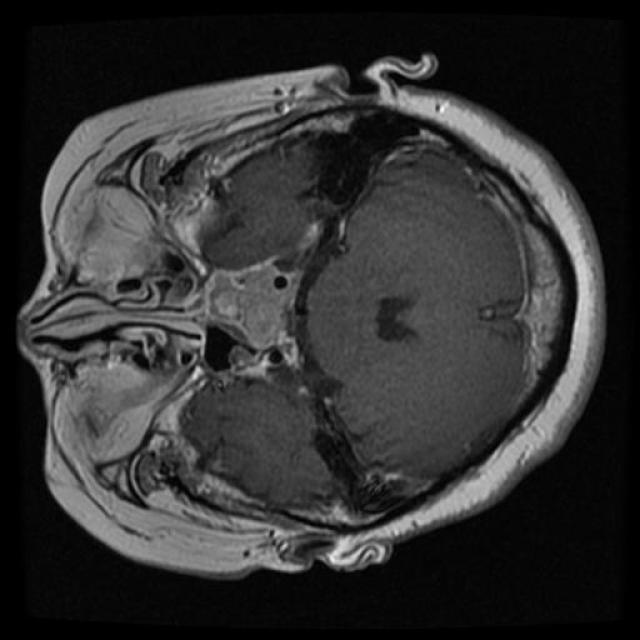Pituitary: (208, 248, 317, 384)
